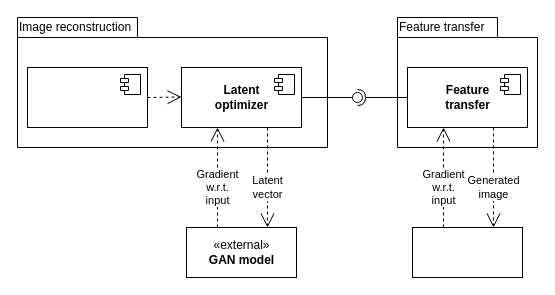
Image size: 555x295. Some labels were removed from this diagram. Here are the shapes that lost their labels. From the top down, the centre of each, then its label:
point 87,97: Initial predictor
point 467,252: «external» Face model
